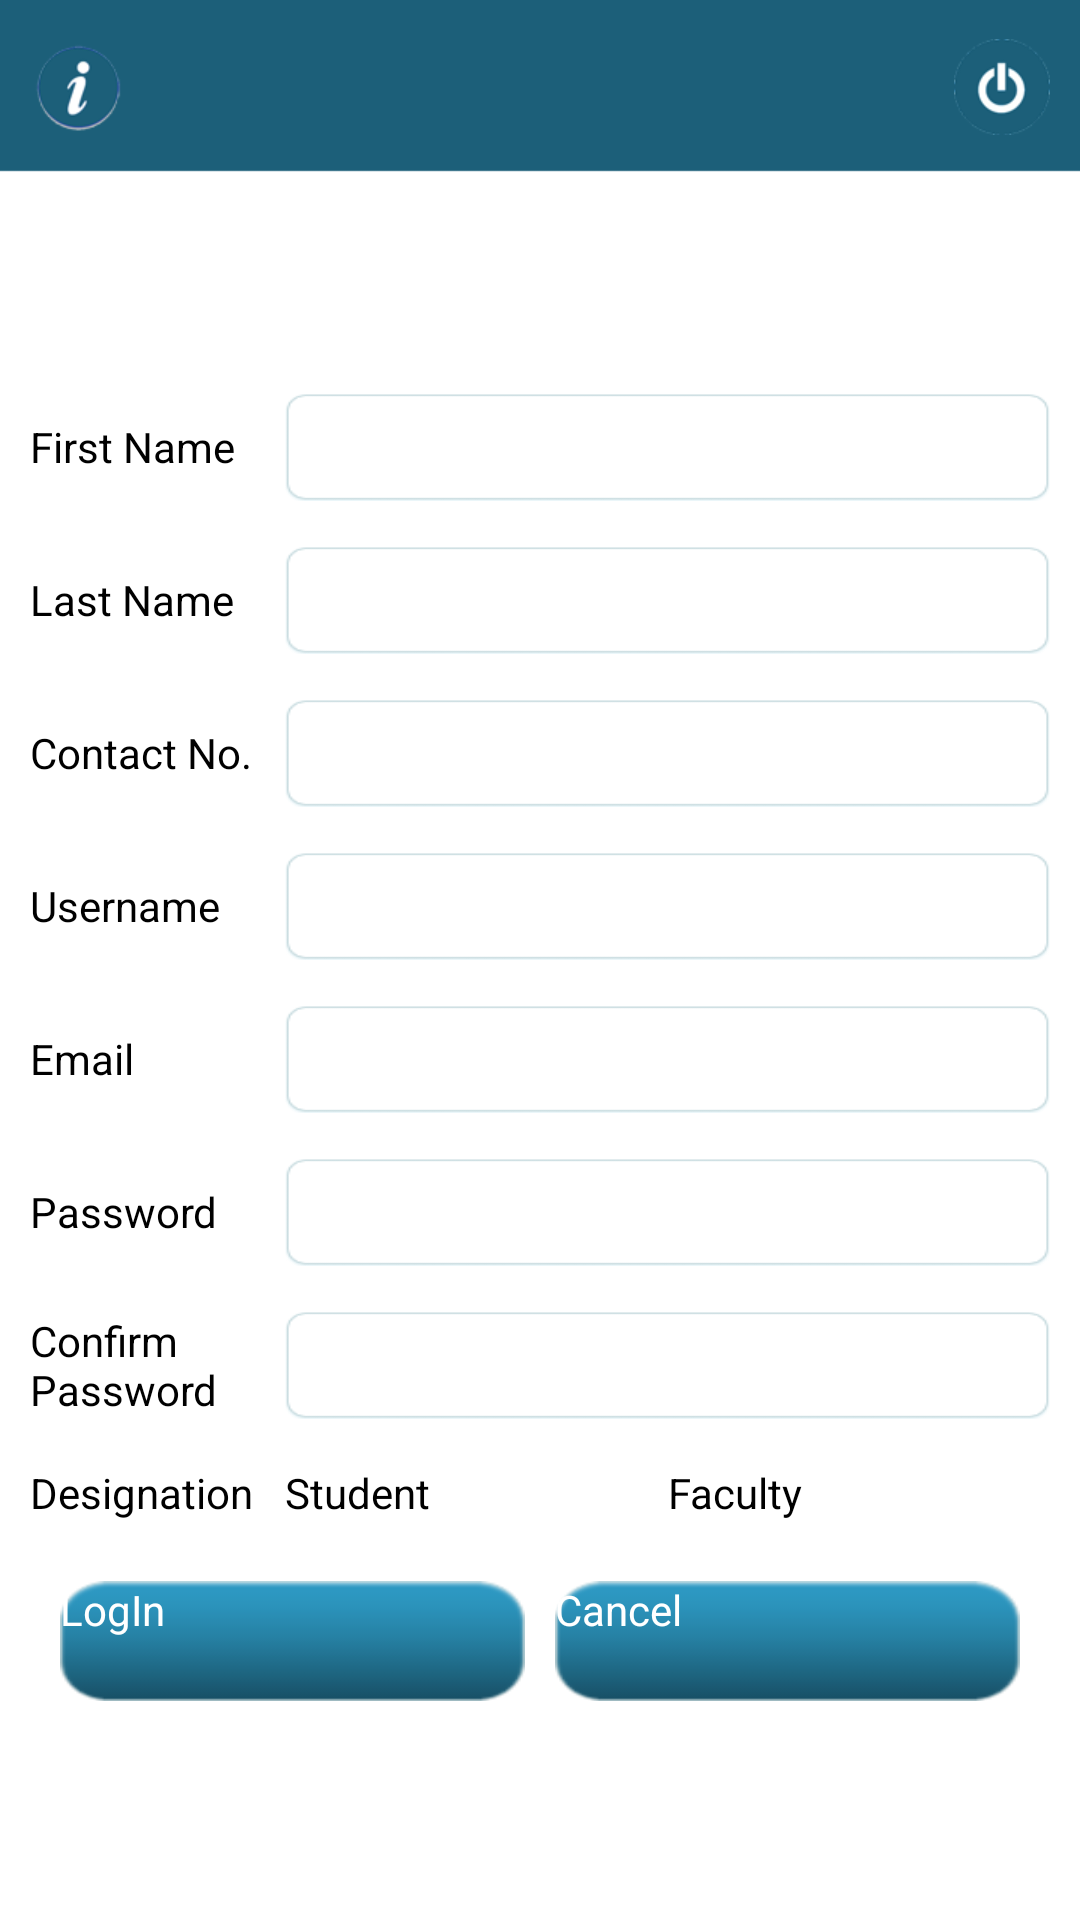

Where icons sit on this 1080 × 1920 app screen, as region(x1, y1, x2, y2):
about us: region(37, 46, 120, 131)
